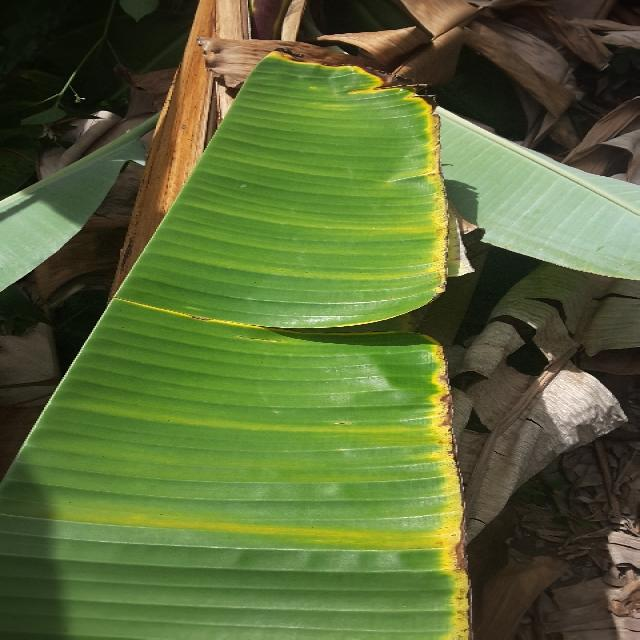Bract_mosaic_virus: (477, 264, 630, 506), (364, 0, 640, 97)
Cordana: (258, 41, 478, 317), (42, 466, 474, 576), (378, 323, 498, 637), (109, 265, 486, 362)
